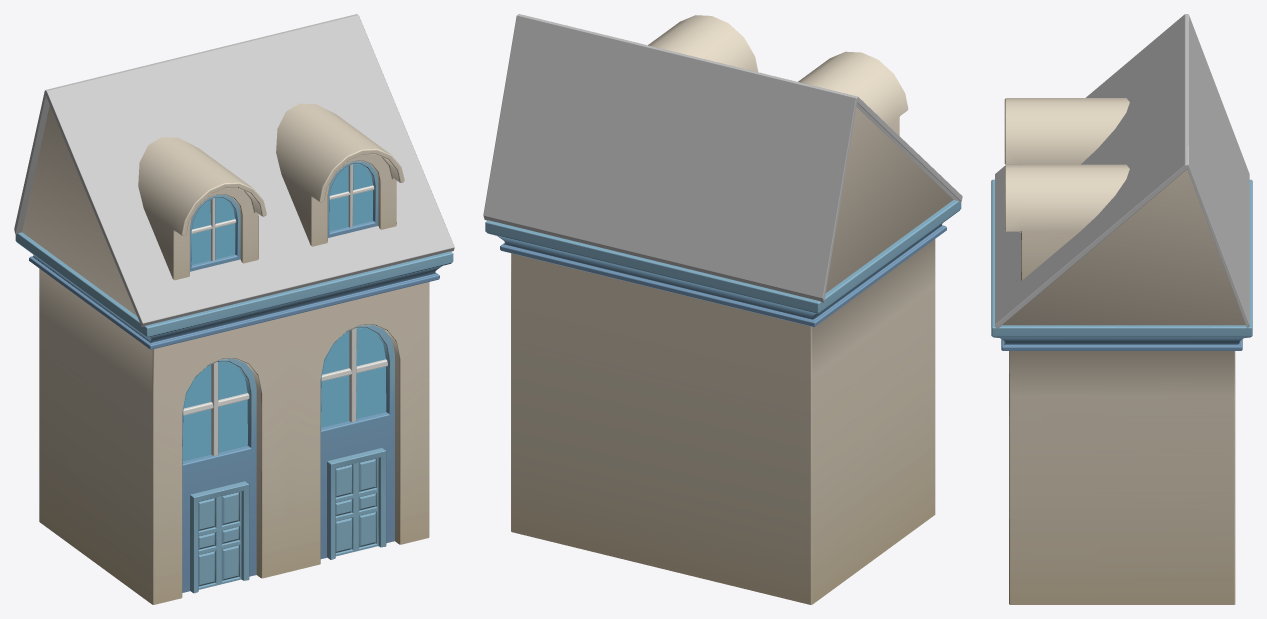
File: BackgroundBuilding5.fbx
3 views of the same model, side by side, from view 1: azimuth 30°, elevation 25°; view 2: azimuth 150°, elevation 25°; view 3: azimuth 270°, elevation 25° (orthographic). The views are drawn at different scales.
Parts seen in each view (by area): view 1: Cube.096, Cube.102, Cube.101, Cube.097, Cube.099, Cube.098, Window1.005, Window1.006, Cube.100; view 2: Cube.096, Cube.102, Cube.098, Cube.101; view 3: Cube.096, Cube.102, Cube.101, Cube.098.
Part boxes in pixels (x1,y1,x2,y2): Cube.096: [22, 105, 429, 604]; Cube.102: [14, 14, 454, 326]; Cube.101: [138, 103, 404, 280]; Cube.097: [182, 325, 394, 592]; Cube.099: [190, 448, 386, 593]; Cube.098: [15, 232, 453, 349]; Window1.005: [182, 328, 386, 461]; Window1.006: [191, 164, 372, 264]; Cube.100: [190, 161, 378, 271]; Cube.096: [511, 107, 953, 604]; Cube.102: [483, 14, 962, 302]; Cube.098: [485, 200, 961, 327]; Cube.101: [648, 15, 908, 135]; Cube.096: [1002, 170, 1245, 604]; Cube.102: [995, 14, 1249, 328]; Cube.101: [1004, 98, 1129, 280]; Cube.098: [991, 179, 1252, 350].
Size of the model in its own units: 789 by 1094 by 577.
